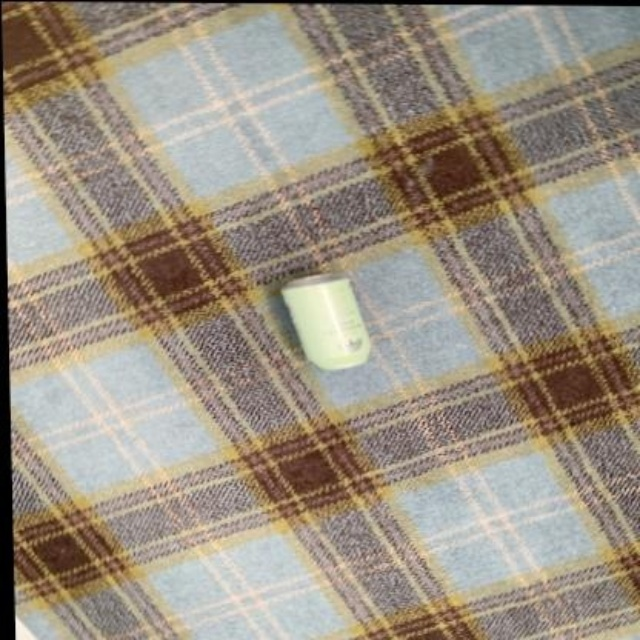trash: (282, 274, 368, 368)
